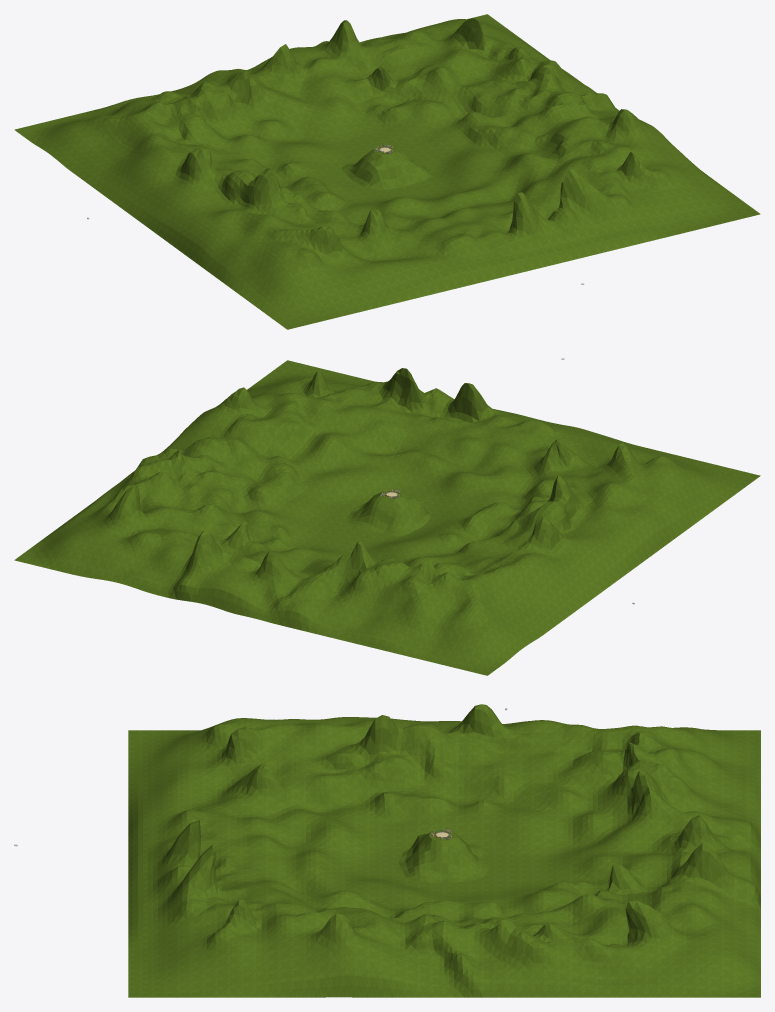
The model's file is arena.glb.
The picture shows the model from 3 angles, top to bottom: view 1: azimuth 30°, elevation 25°; view 2: azimuth 150°, elevation 25°; view 3: azimuth 270°, elevation 25°; orthographic projection. The views are drawn at different scales.
Parts seen in each view (by area): view 1: object 3, object 2; view 2: object 3, object 2; view 3: object 3, object 2.
Part boxes in pixels (left/top/right/bottom): object 3: left=14, top=14, right=760, bottom=329; object 2: left=342, top=145, right=430, bottom=190; object 3: left=14, top=360, right=760, bottom=675; object 2: left=344, top=489, right=431, bottom=536; object 3: left=128, top=704, right=760, bottom=997; object 2: left=392, top=829, right=491, bottom=883.
Size of the model in its own units: 2.46 by 0.27 by 2.69.
26 materials, 25 textured.
